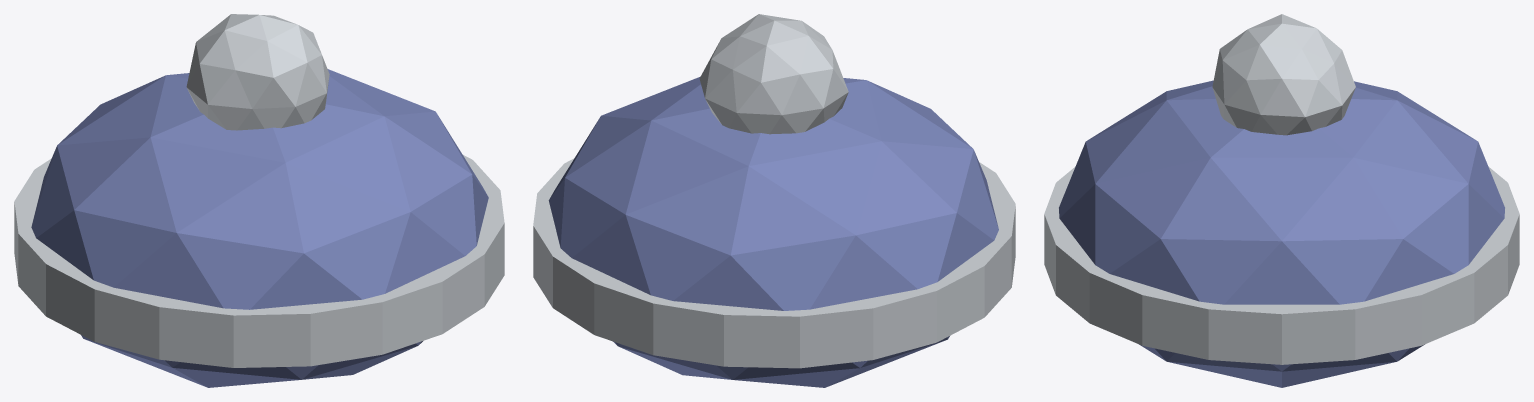
The model's file is goo_jar_hat@crystal.fbx.
3 renders of one model, left to right at view 1: azimuth 30°, elevation 25°; view 2: azimuth 150°, elevation 25°; view 3: azimuth 270°, elevation 25°, orthographic. The views are drawn at different scales.
Visible parts, largest first — view 1: goo_jar_hat; view 2: goo_jar_hat; view 3: goo_jar_hat.
Boxes of the visible parts, x1,y1,x2,y2 form: goo_jar_hat: (14,14,504,387); goo_jar_hat: (533,14,1015,387); goo_jar_hat: (1044,14,1519,387).
Bounding box in the file's own units: 1.36 × 1.05 × 1.36.
